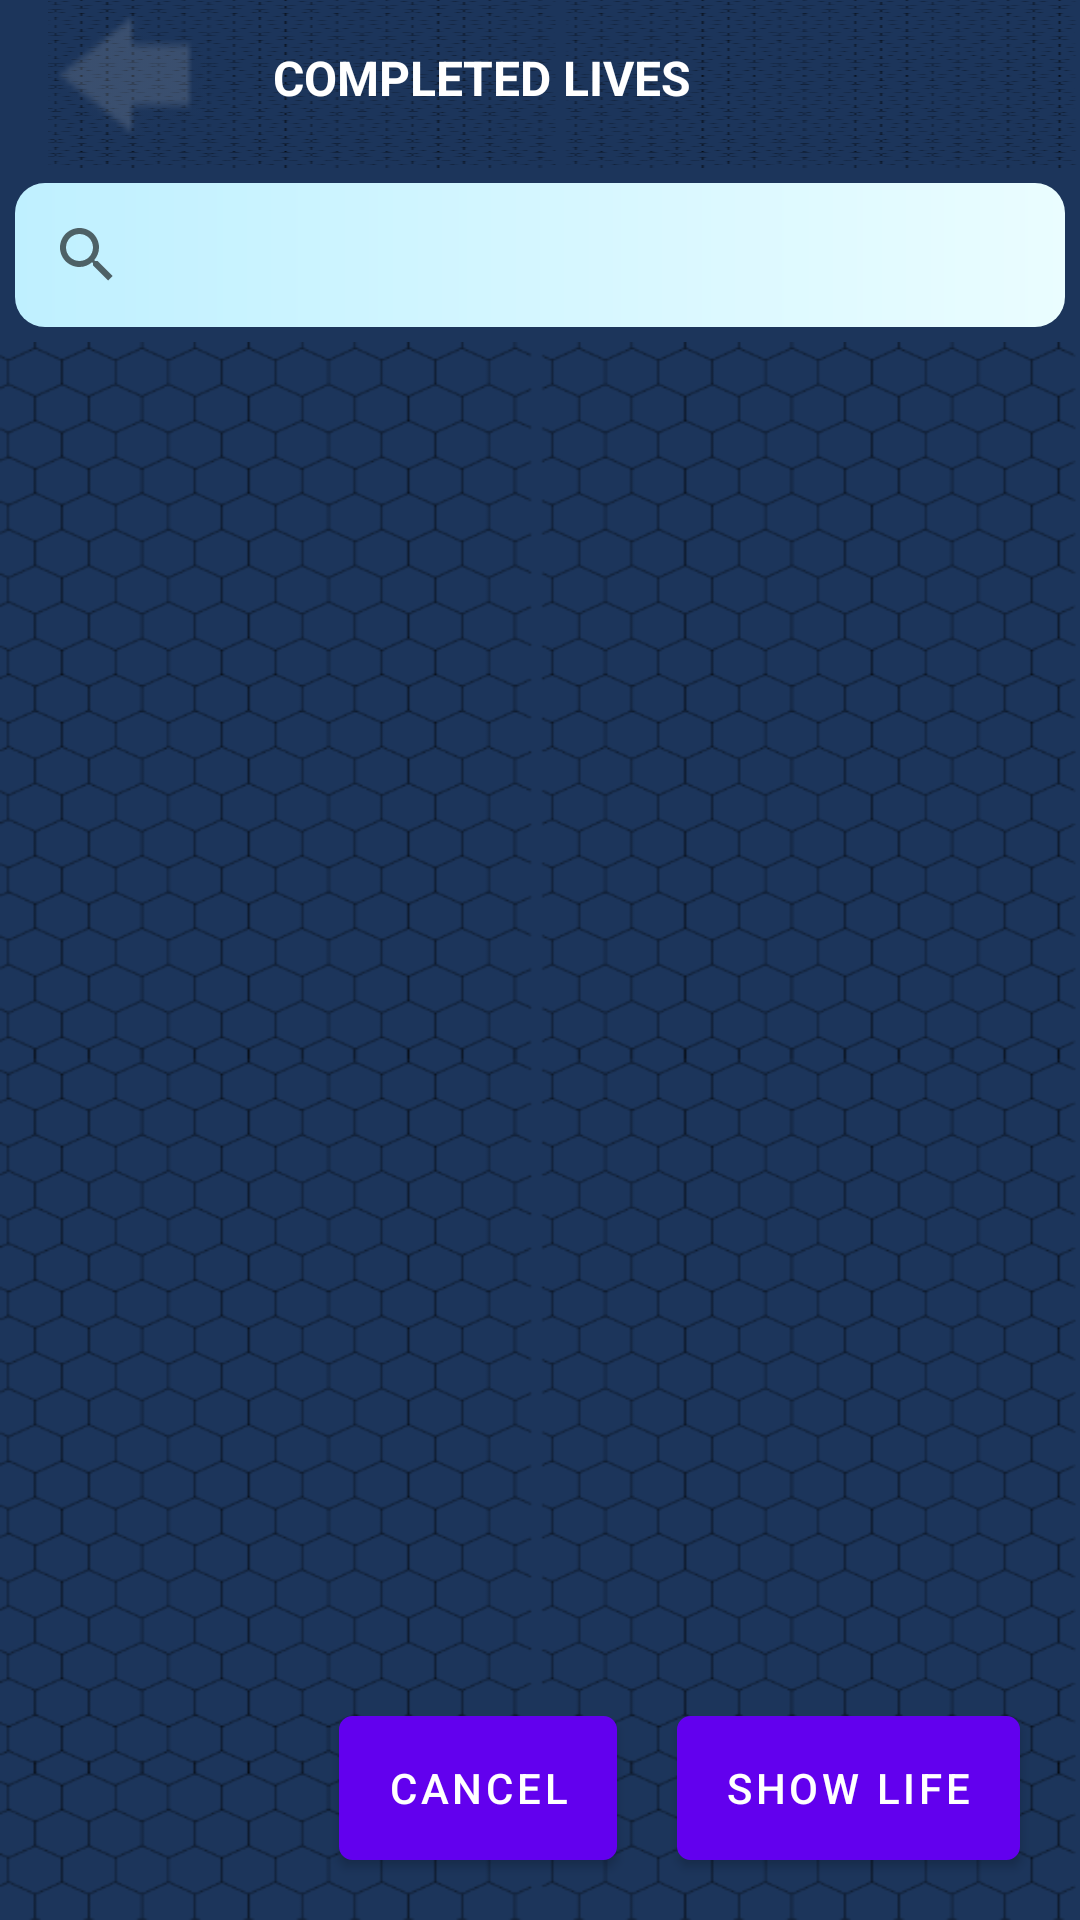

Where icons sit on this 1080px x 1920px app screen, as (x1, y1, x2, y2):
previous: (51, 0, 228, 168)
